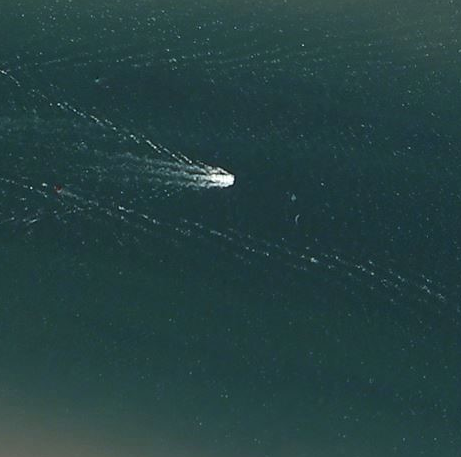ship: (207, 166, 240, 188)
